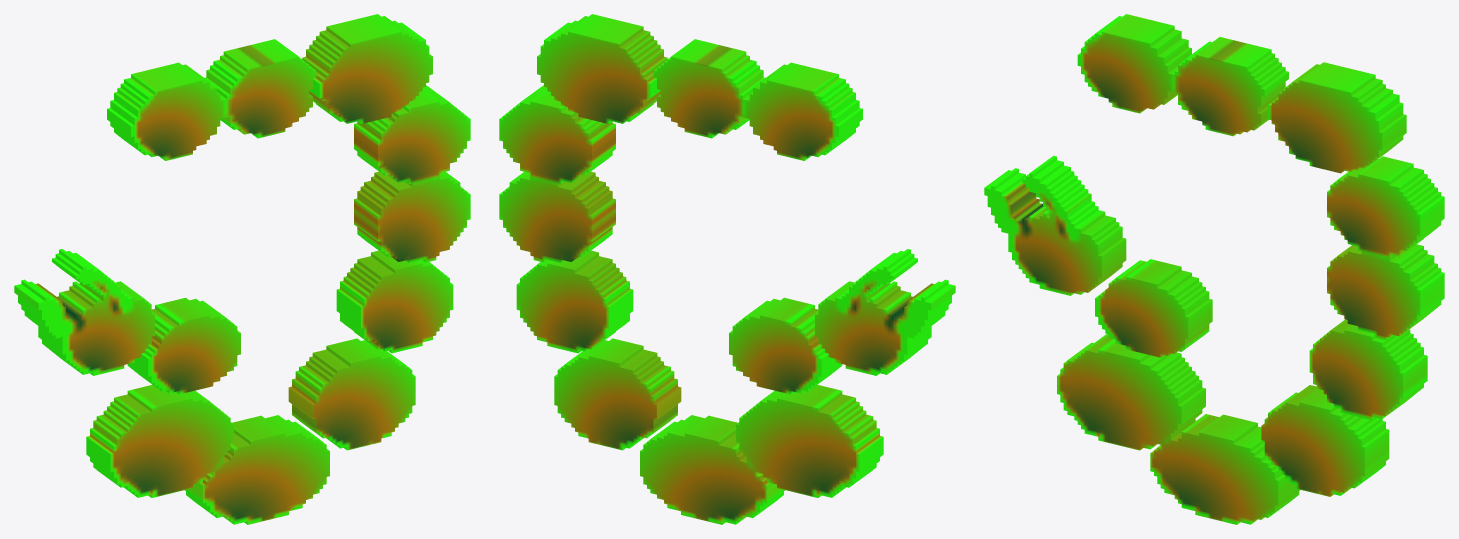
File: boss_pede.glb
3 renders of one model, left to right at view 1: azimuth 30°, elevation 25°; view 2: azimuth 150°, elevation 25°; view 3: azimuth 330°, elevation 25°, orthographic.
Visible parts, largest first — view 1: centipede_boss_voxel; view 2: centipede_boss_voxel; view 3: centipede_boss_voxel.
Boxes of the visible parts, x1,y1,x2,y2 form: centipede_boss_voxel: (14, 14, 470, 524); centipede_boss_voxel: (499, 14, 955, 524); centipede_boss_voxel: (984, 14, 1444, 524).
Size of the model in its own units: 6.92 by 6.97 by 0.669.
1 material, 1 textured.
